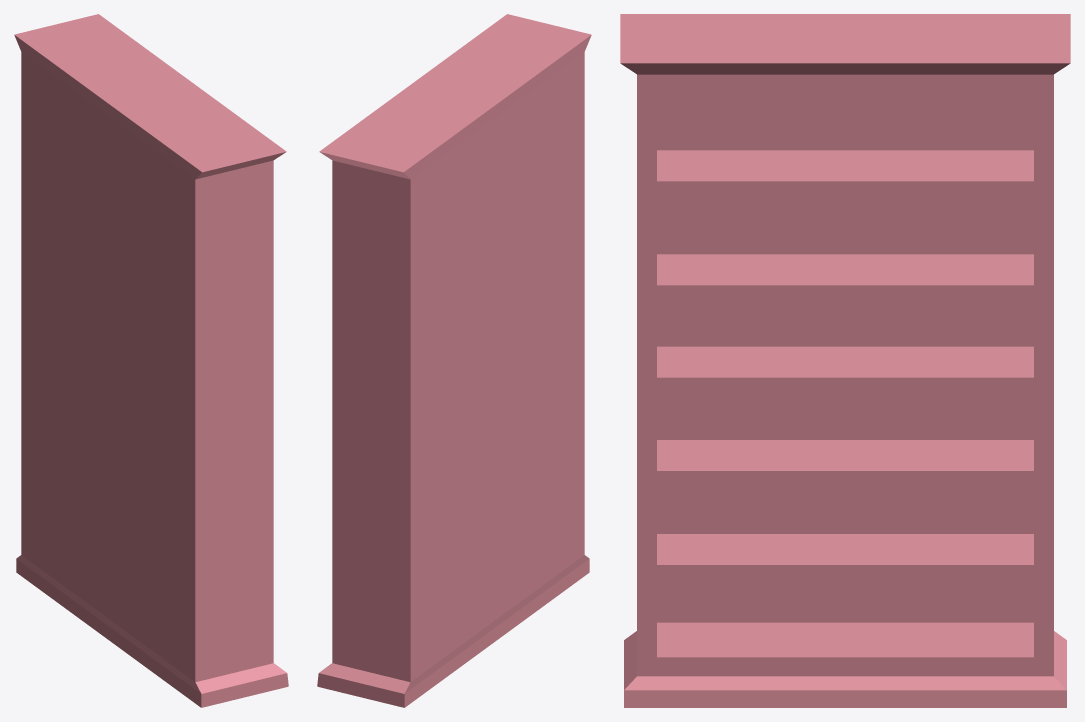
File: shelf 1 .fbx
3 views of the same model, side by side, from view 1: azimuth 30°, elevation 25°; view 2: azimuth 150°, elevation 25°; view 3: azimuth 270°, elevation 25° (orthographic). The views are drawn at different scales.
Parts seen in each view (by area): view 1: case; view 2: case; view 3: case, shelves.
Part boxes in pixels (x1,y1,x2,y2): case: (14,14,288,707); case: (317,14,591,707); case: (620,14,1070,707); shelves: (657,150,1033,573).
Size of the model in its own units: 97.27 by 567 by 360.
